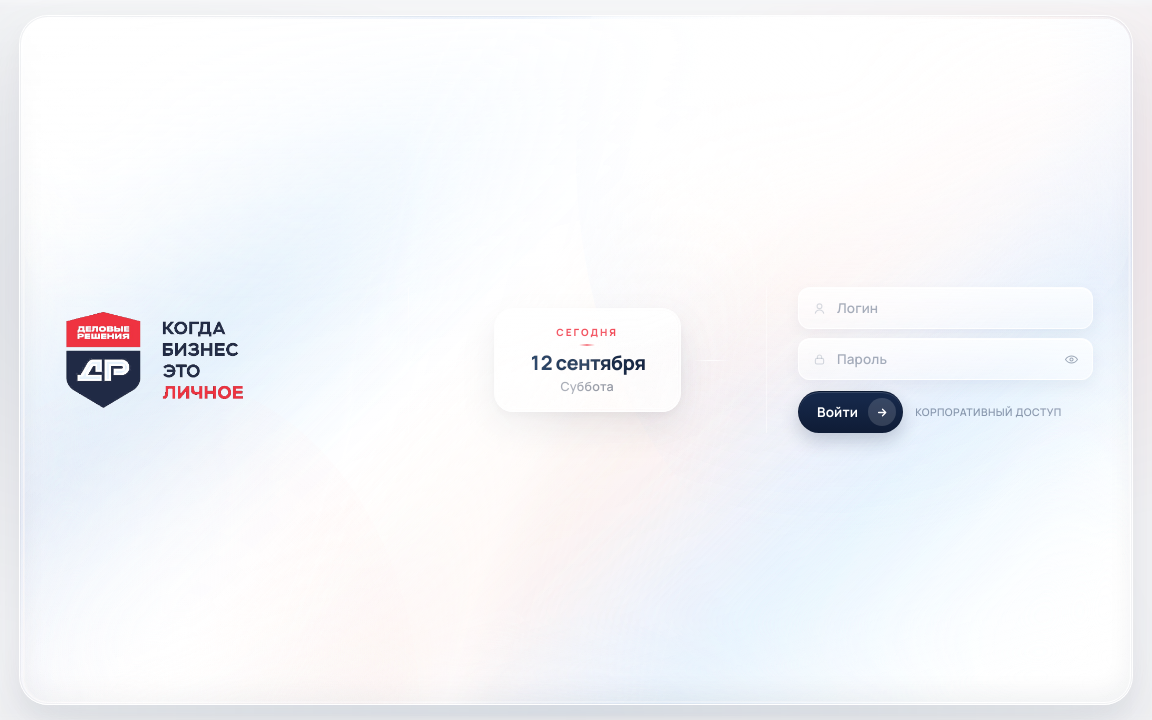
Test: Маршрут главной › после входа показывает хабы и ведёт в список объектов по ссылке
In the field with placeholder "Логин": point(945, 308) [798,287,1093,329], type "Dakaev"
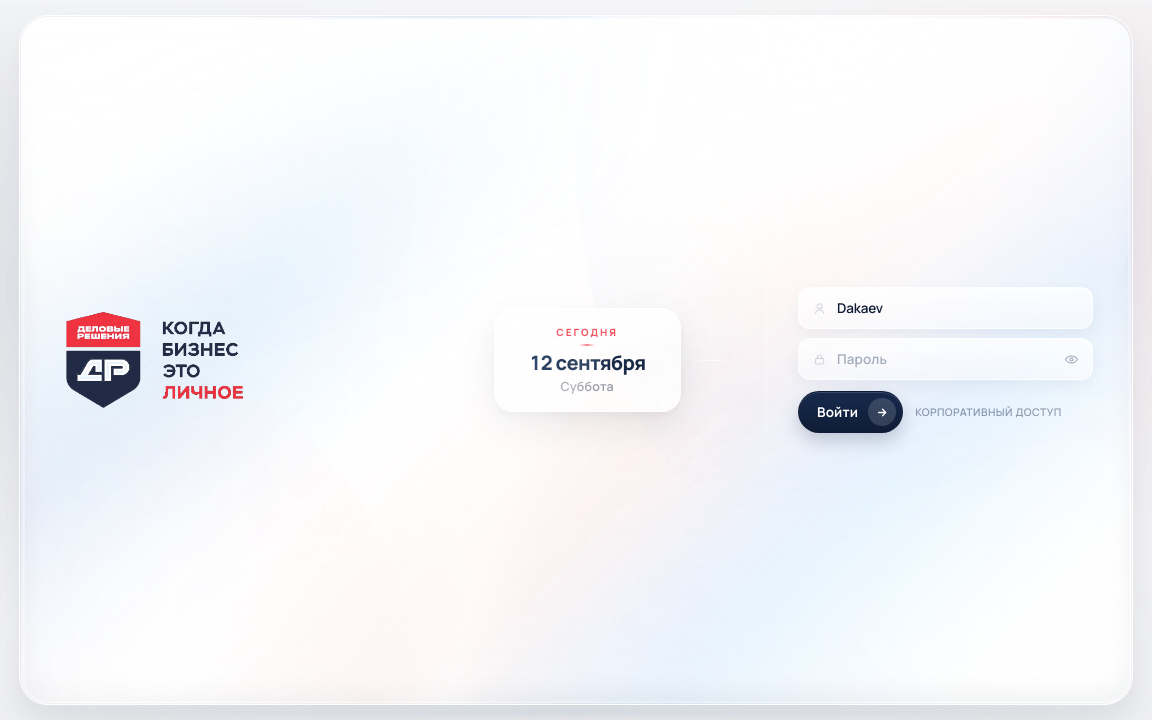
In the password field with placeholder "Пароль": point(945, 359) [798,338,1093,380], type "test-pass"
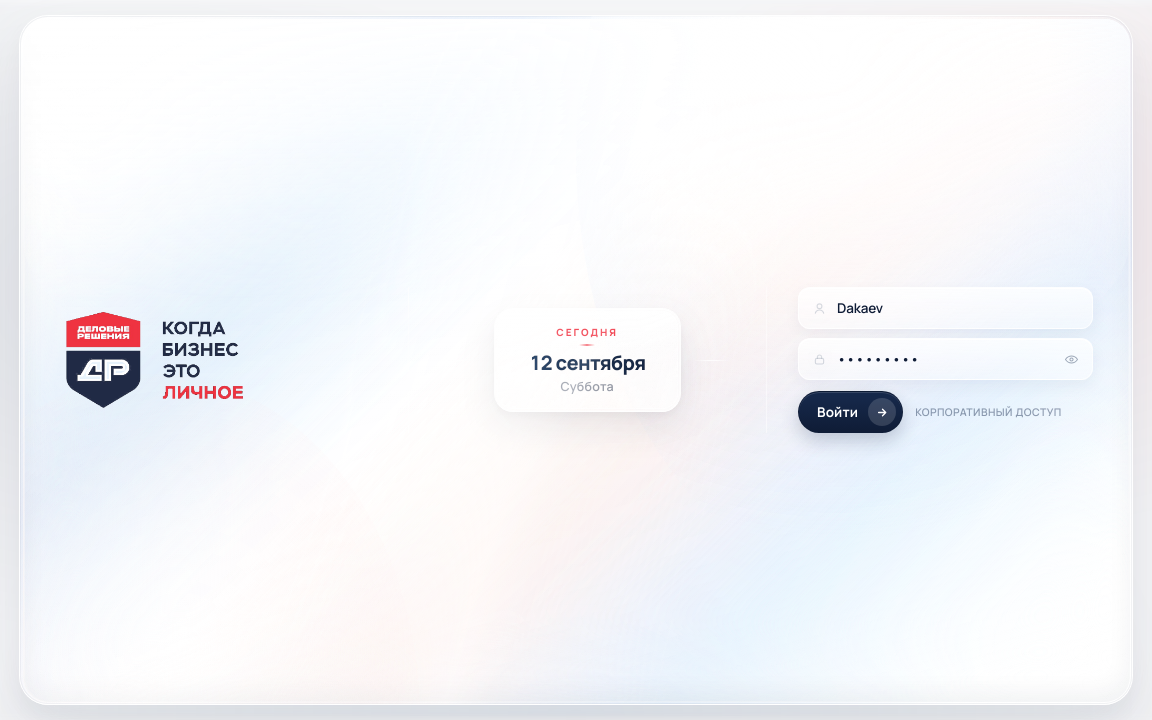
Click the button "Войти": point(851, 412) [798,391,903,433]
Wait 250 ms
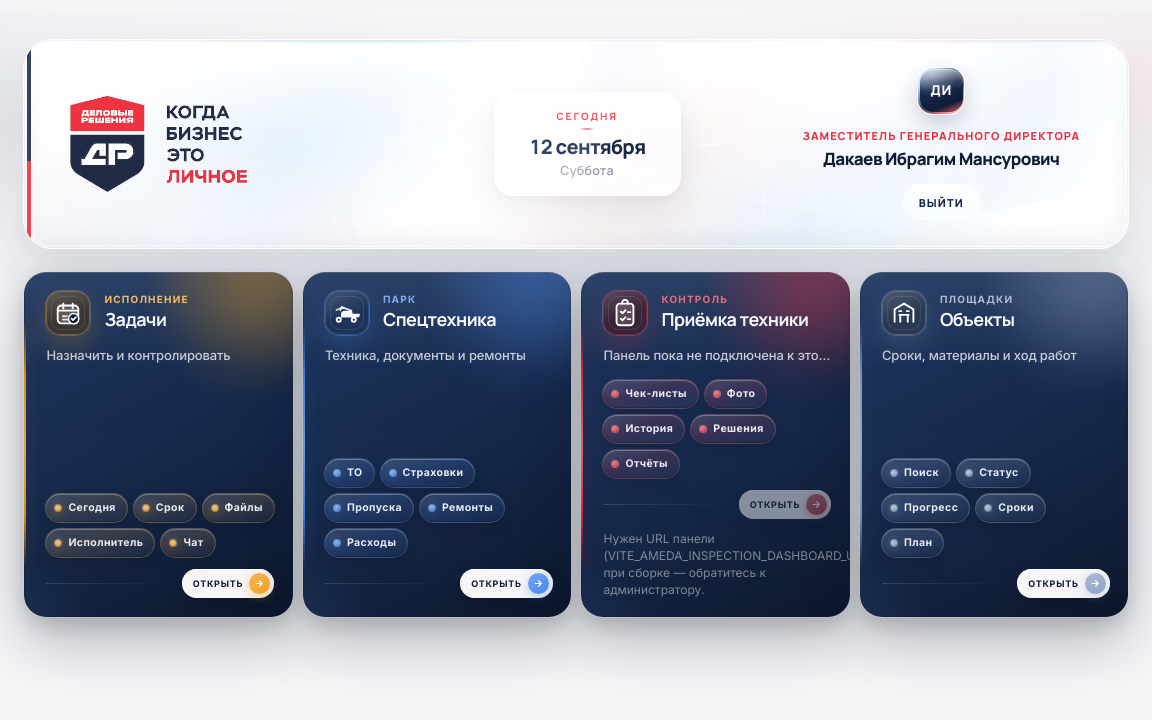
Check: the heading "Объекты" is shown, box [940,307,1014,331]
Check: the link with aria-label "Открыть парк техники" is shown, box [302,272,571,617]
Check: the element named "Открыть панель приёмки" is shown, box [581,272,850,617]
Click the link with aria-label "Открыть список объектов": point(994, 444) [860,272,1128,617]
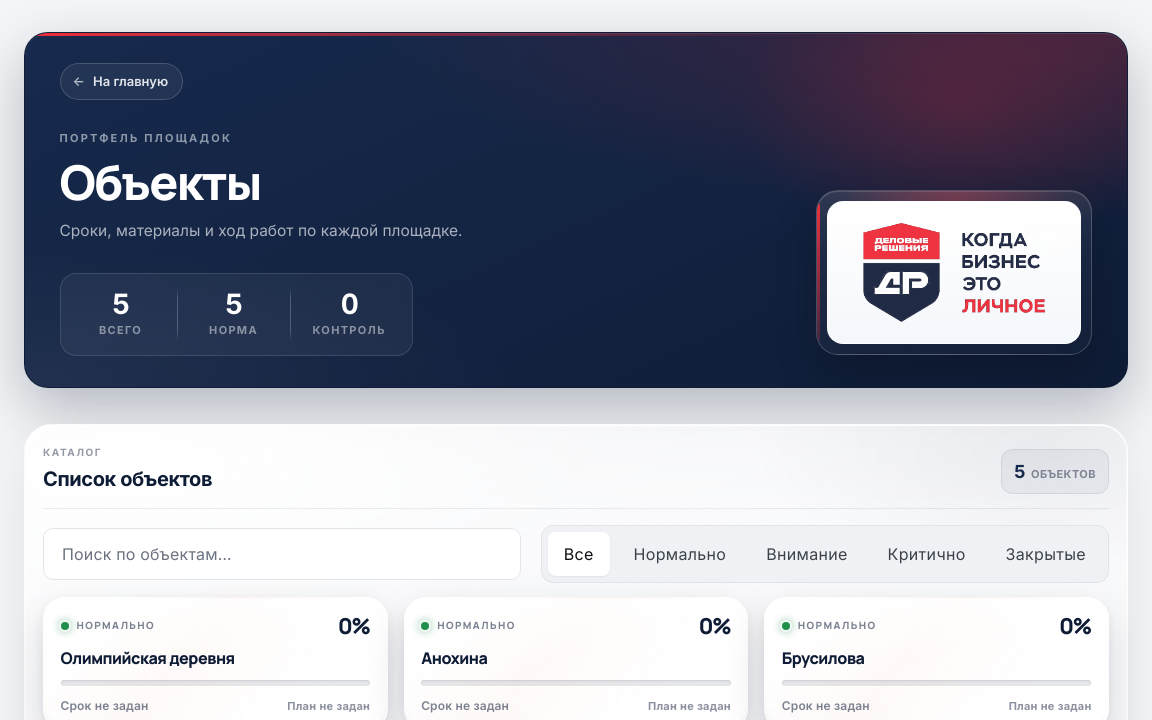
Check: the heading "Объекты" is shown, box [60,149,261,214]
Check: the element named "Поиск и фильтры по списку" is shown, box [43,525,1109,583]
